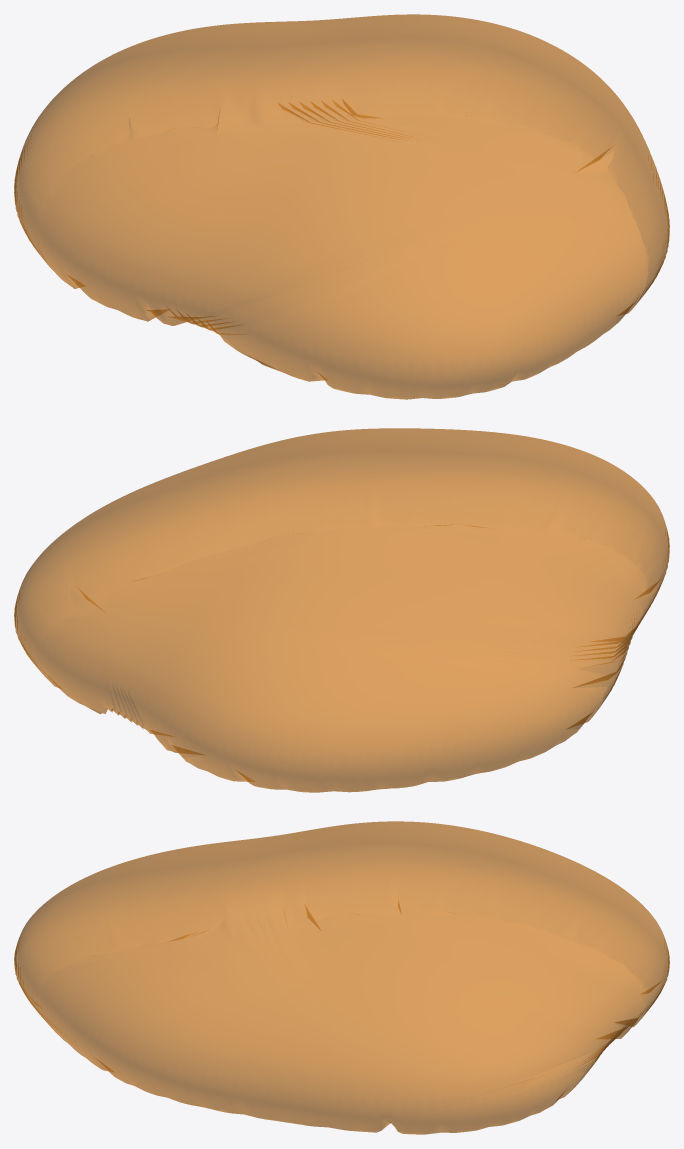
Rendered from jewelry.glb.
3 renders of one model, top to bottom at view 1: azimuth 30°, elevation 25°; view 2: azimuth 150°, elevation 25°; view 3: azimuth 270°, elevation 25°, orthographic. The views are drawn at different scales.
Visible parts, largest first — view 1: Gemstone Amber; view 2: Gemstone Amber; view 3: Gemstone Amber.
Boxes of the visible parts, x1,y1,x2,y2 form: Gemstone Amber: [14, 14, 669, 399]; Gemstone Amber: [14, 428, 669, 792]; Gemstone Amber: [14, 821, 669, 1134].
Size of the model in its own units: 2.04 by 0.5998 by 2.36.
